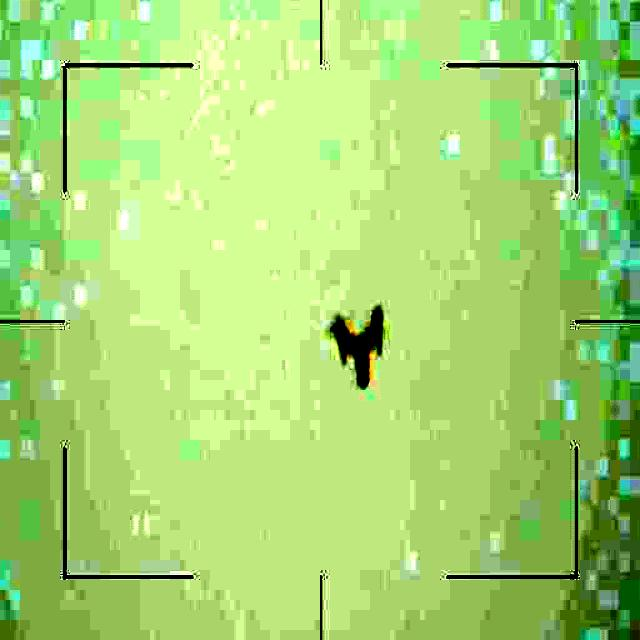bird: (330, 301, 391, 394)
